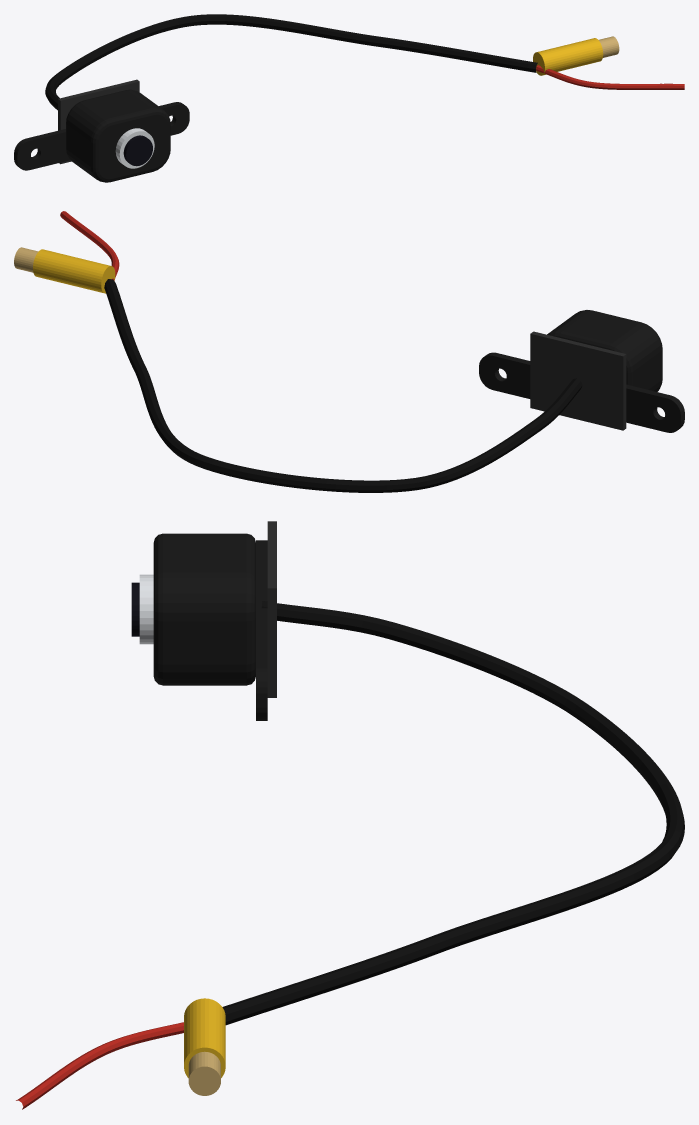
Rendered from camara_retro_kia_new_sonet.glb.
3 renders of one model, top to bottom at view 1: azimuth 30°, elevation 25°; view 2: azimuth 150°, elevation 25°; view 3: azimuth 270°, elevation 25°, orthographic. The views are drawn at different scales.
Visible parts, largest first — view 1: carcasa_negra, cable_negro, rca_amarillo, empaque_goma, cable_rojo, lente_vidrio, aro_cromo, conector_metal; view 2: carcasa_negra, cable_negro, empaque_goma, rca_amarillo, cable_rojo, conector_metal; view 3: cable_negro, carcasa_negra, rca_amarillo, cable_rojo, empaque_goma, conector_metal, aro_cromo.
Part boxes in pixels (box(x1,y1,x2,y2)): carcasa_negra: box(14, 89, 189, 182); cable_negro: box(45, 14, 537, 110); rca_amarillo: box(533, 38, 603, 75); empaque_goma: box(58, 79, 139, 164); cable_rojo: box(536, 65, 684, 89); lente_vidrio: box(123, 135, 152, 166); aro_cromo: box(115, 128, 154, 168); conector_metal: box(598, 36, 619, 57); carcasa_negra: box(479, 310, 684, 432); cable_negro: box(104, 279, 582, 492); empaque_goma: box(530, 331, 626, 430); rca_amarillo: box(33, 249, 115, 293); cable_rojo: box(60, 211, 119, 280); conector_metal: box(14, 247, 38, 272); cable_negro: box(222, 601, 684, 1025); carcasa_negra: box(153, 533, 267, 720); rca_amarillo: box(184, 998, 225, 1077); cable_rojo: box(16, 1022, 183, 1109); empaque_goma: box(267, 521, 276, 697); conector_metal: box(188, 1051, 220, 1095); aro_cromo: box(139, 574, 153, 644).
Bounding box in the file's own units: 0.2577 × 0.03 × 0.1442.
